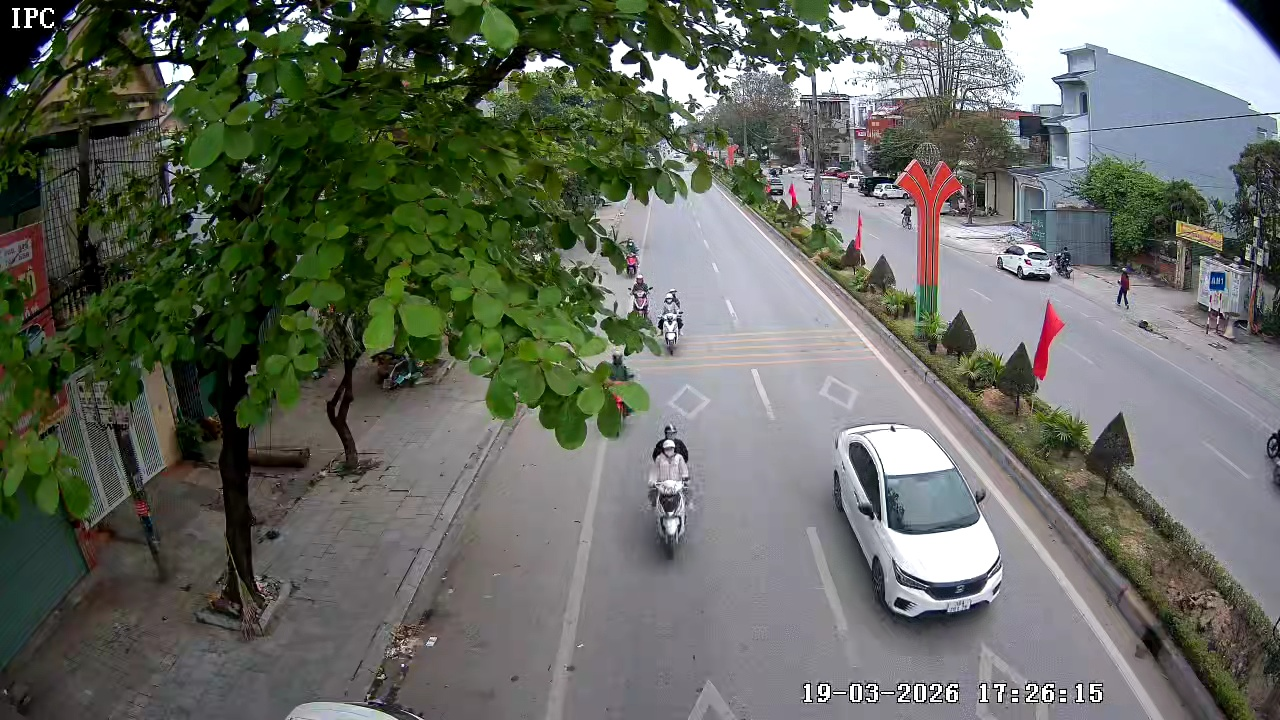car: (830, 422, 1003, 617), (995, 239, 1056, 281)
motorbike: (644, 431, 697, 561), (657, 288, 687, 356), (629, 272, 655, 323), (1266, 417, 1279, 496)
